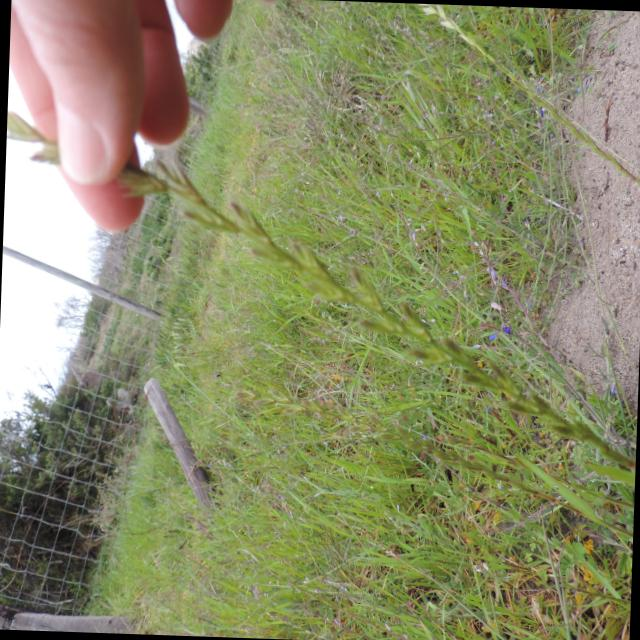Lolium: (25, 90, 640, 500), (418, 3, 640, 201), (376, 418, 636, 545)
